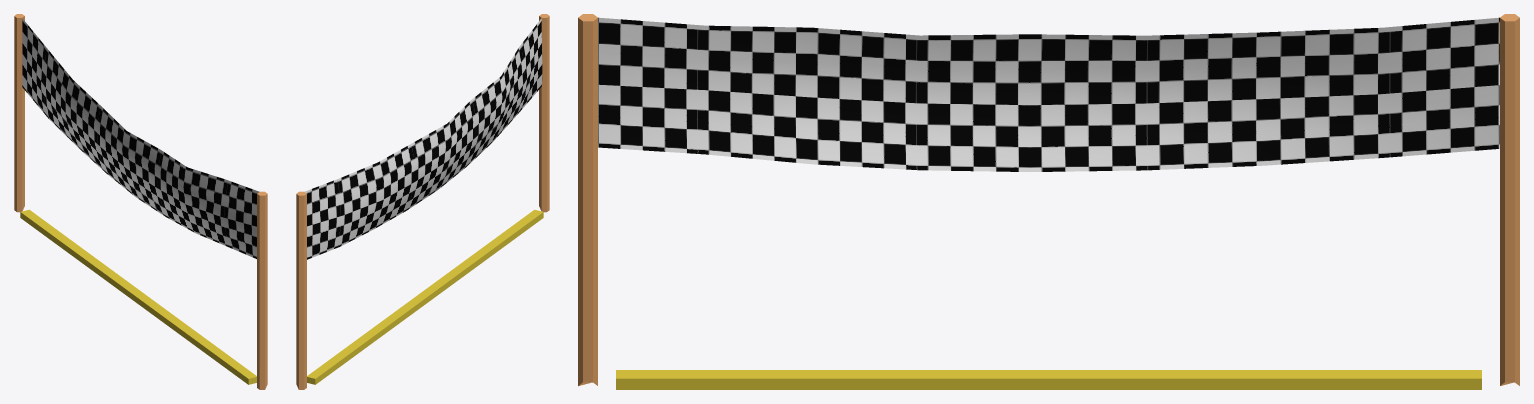
Rendered from finish_line.fbx.
3 views of the same model, side by side, from view 1: azimuth 30°, elevation 25°; view 2: azimuth 150°, elevation 25°; view 3: azimuth 270°, elevation 25° (orthographic). The views are drawn at different scales.
Parts seen in each view (by area): view 1: finish_line; view 2: finish_line; view 3: finish_line.
Boxes of the visible parts, box(x1,y1,x2,y2) form: finish_line: box(14, 14, 267, 389); finish_line: box(296, 14, 549, 389); finish_line: box(578, 14, 1519, 389).
Size of the model in its own units: 548 by 4056 by 9360.
